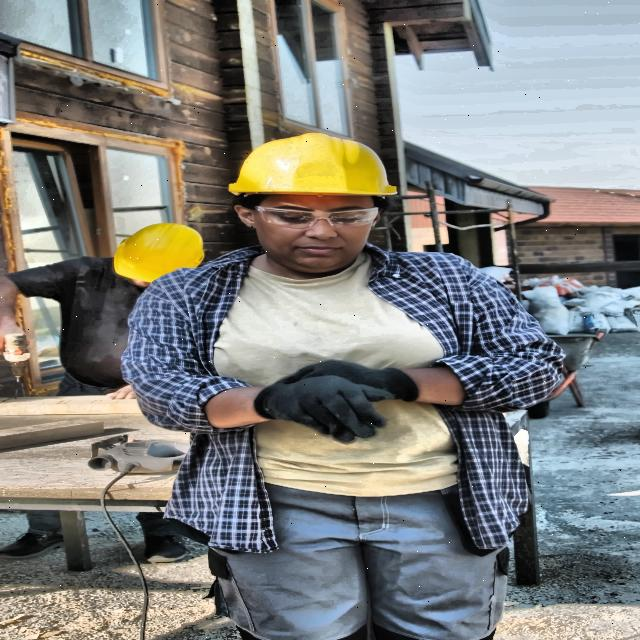gloved: (305, 340, 450, 406), (262, 383, 402, 439)
